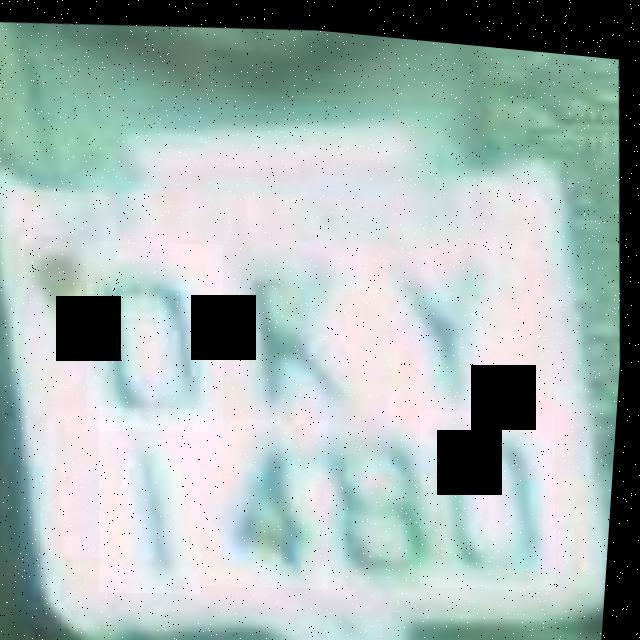0: (415, 392, 572, 588)
1: (94, 396, 217, 596)
4: (196, 404, 344, 590)
B: (303, 395, 457, 590)
O: (79, 229, 238, 437)
Y: (358, 203, 522, 415)
